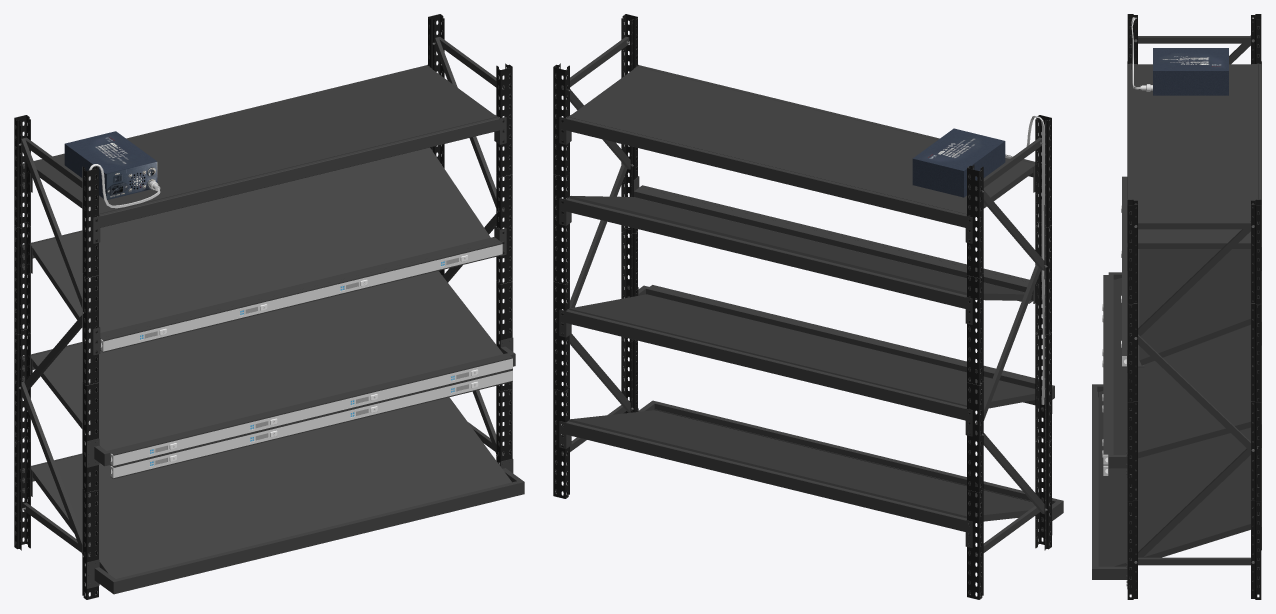
Rendered from BoZhongQiang 1.fbx.
3 renders of one model, left to right at view 1: azimuth 30°, elevation 25°; view 2: azimuth 150°, elevation 25°; view 3: azimuth 270°, elevation 25°, orthographic. The views are drawn at different scales.
Visible parts, largest first — view 1: CengBan8, CengBan6, CengBan7, CengBan5, pCube69 (×3), LiZhu9, pCube53 (×2), LiZhu8, LiZhu2, pCube70 (×2), KongZhiQi, pCube107 (×3) (+7 smaller); view 2: pCube53 (×5), CengBan5, CengBan7, CengBan8, pCube69 (×3), CengBan6, LiZhu9, LiZhu8, LiZhu6, KongZhiQi, LiZhu2, pCube70 (×2) (+4 smaller); view 3: CengBan5, CengBan8, CengBan7, CengBan6, LiZhu2, LiZhu6, KongZhiQi, pCube69 (×2), pCube70 (×2), pCube53 (×2), XieCheng4, XieCheng5 (+7 smaller).
Boxes of the visible parts, x1=… form: CengBan8: x1=31, y1=397, x2=511, y2=578; CengBan6: x1=31, y1=147, x2=490, y2=332; CengBan7: x1=31, y1=271, x2=502, y2=450; CengBan5: x1=34, y1=66, x2=496, y2=214; pCube69 (×3): x1=94, y1=237, x2=524, y2=594; LiZhu9: x1=14, y1=115, x2=30, y2=550; pCube53 (×2): x1=33, y1=65, x2=499, y2=227; LiZhu8: x1=82, y1=164, x2=98, y2=599; LiZhu2: x1=496, y1=63, x2=512, y2=465; pCube70 (×2): x1=100, y1=241, x2=512, y2=466; KongZhiQi: x1=64, y1=131, x2=157, y2=199; pCube107 (×3): x1=369, y1=259, x2=449, y2=412; pCube53 (×5): x1=566, y1=65, x2=1035, y2=531; CengBan5: x1=569, y1=67, x2=1035, y2=214; CengBan7: x1=569, y1=294, x2=1038, y2=410; CengBan8: x1=569, y1=410, x2=1034, y2=521; pCube69 (×3): x1=634, y1=187, x2=1063, y2=520; CengBan6: x1=569, y1=196, x2=1031, y2=300; LiZhu9: x1=967, y1=164, x2=983, y2=599; LiZhu8: x1=1035, y1=115, x2=1051, y2=550; LiZhu6: x1=553, y1=63, x2=569, y2=498; KongZhiQi: x1=912, y1=128, x2=1005, y2=197; LiZhu2: x1=621, y1=14, x2=637, y2=413; pCube70 (×2): x1=640, y1=185, x2=1038, y2=380; CengBan5: x1=1132, y1=64, x2=1257, y2=248; CengBan8: x1=1098, y1=391, x2=1250, y2=566; CengBan7: x1=1113, y1=278, x2=1250, y2=458; CengBan6: x1=1139, y1=249, x2=1250, y2=365; LiZhu2: x1=1127, y1=199, x2=1137, y2=599; LiZhu6: x1=1251, y1=199, x2=1261, y2=599; KongZhiQi: x1=1153, y1=48, x2=1228, y2=95; pCube69 (×2): x1=1092, y1=272, x2=1127, y2=579; pCube70 (×2): x1=1103, y1=176, x2=1127, y2=465; pCube53 (×2): x1=1127, y1=64, x2=1261, y2=243; XieCheng4: x1=1131, y1=334, x2=1257, y2=451; XieCheng5: x1=1130, y1=446, x2=1258, y2=560.
Bounding box in the file's own units: 2200 × 2122 × 825.
9 materials, 3 textured.
